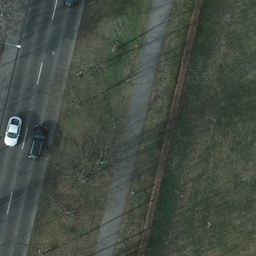car: (28, 122, 46, 160), (5, 113, 22, 150)
